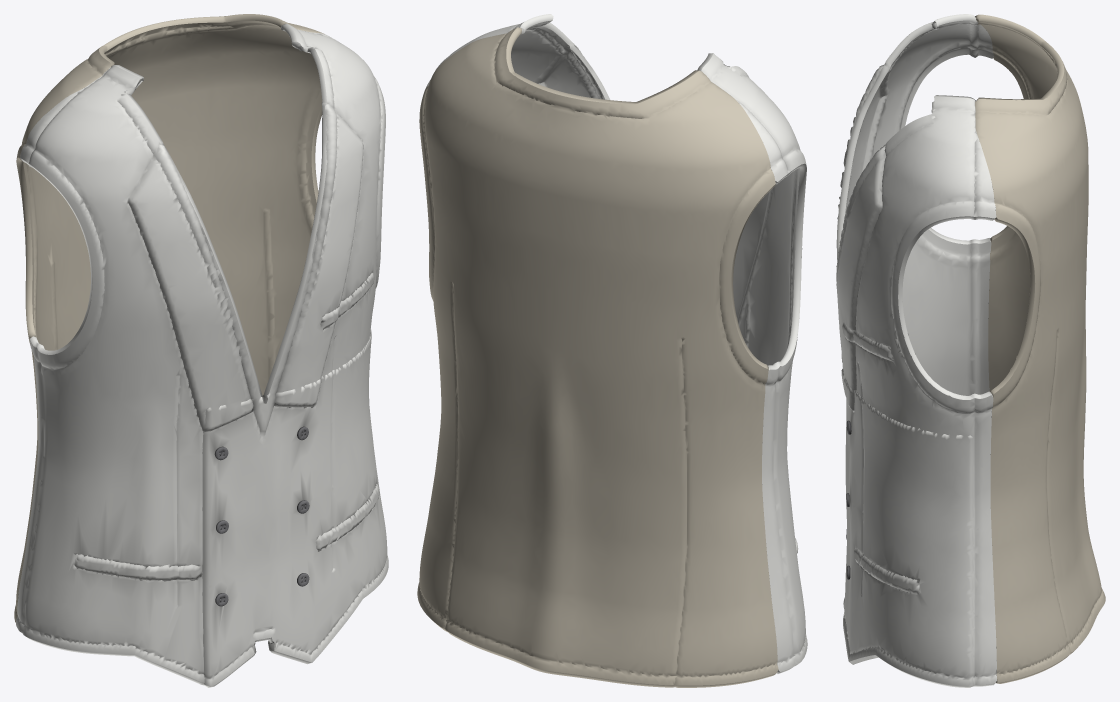
File: 04_chaleco_traje.glb
3 renders of one model, left to right at view 1: azimuth 30°, elevation 25°; view 2: azimuth 150°, elevation 25°; view 3: azimuth 270°, elevation 25°, orthographic. The views are drawn at different scales.
Parts seen in each view (by area): view 1: Chaleco de traje cruzado; view 2: Chaleco de traje cruzado; view 3: Chaleco de traje cruzado.
Part boxes in pixels (x1=…): Chaleco de traje cruzado: x1=14, y1=14, x2=388, y2=687; Chaleco de traje cruzado: x1=417, y1=14, x2=807, y2=687; Chaleco de traje cruzado: x1=836, y1=14, x2=1105, y2=687.
Bounding box in the file's own units: 0.3953 × 0.6243 × 0.2611.
